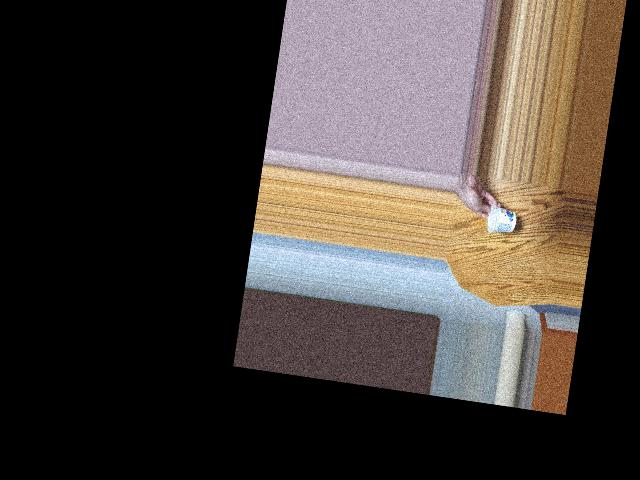cotage: (479, 201, 516, 240)
